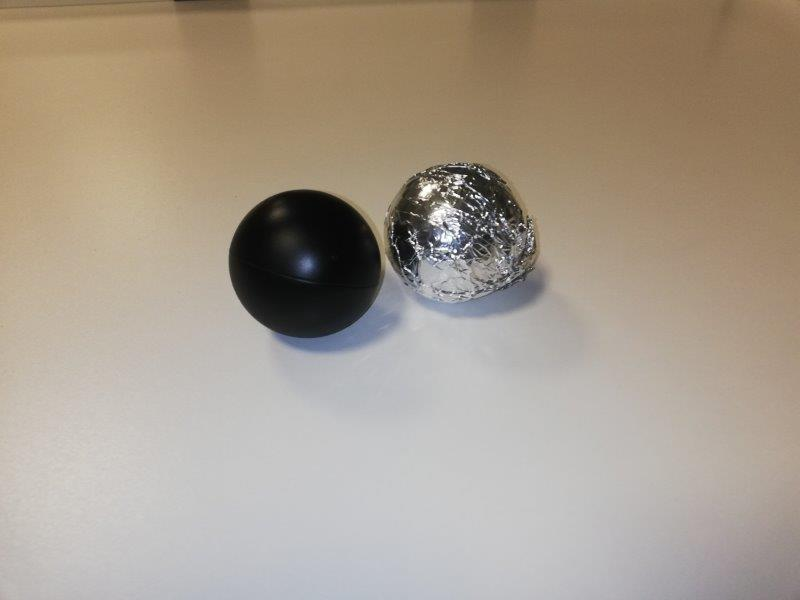bianca: (385, 159, 540, 301)
nera: (230, 191, 381, 334)
